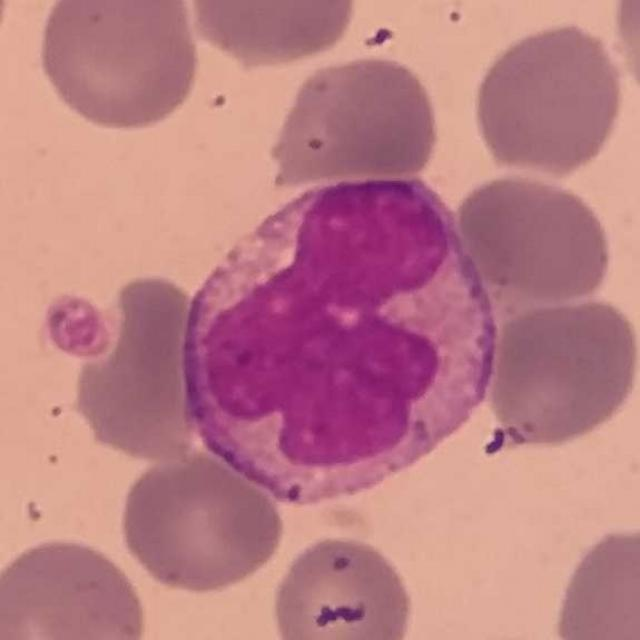Monocyte: (170, 169, 502, 516)
Platelets: (38, 289, 116, 363), (363, 24, 396, 52)
RBC: (66, 270, 204, 466), (469, 17, 630, 181), (481, 290, 640, 451), (115, 448, 287, 596), (265, 51, 445, 187), (32, 1, 205, 135), (452, 169, 618, 308), (267, 530, 419, 640), (0, 531, 152, 640), (182, 0, 362, 69), (546, 518, 640, 640), (603, 0, 640, 109), (0, 1, 17, 71)
